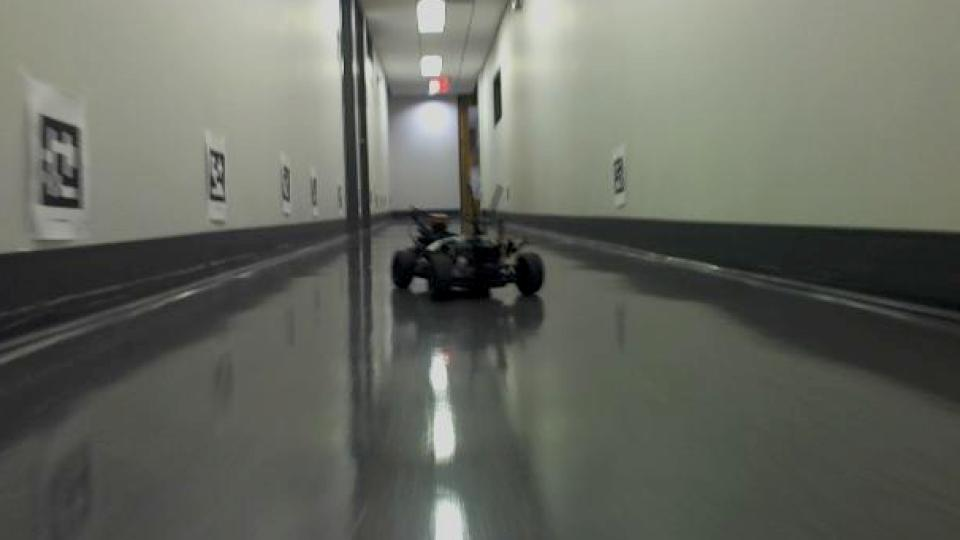car: (388, 183, 550, 305)
